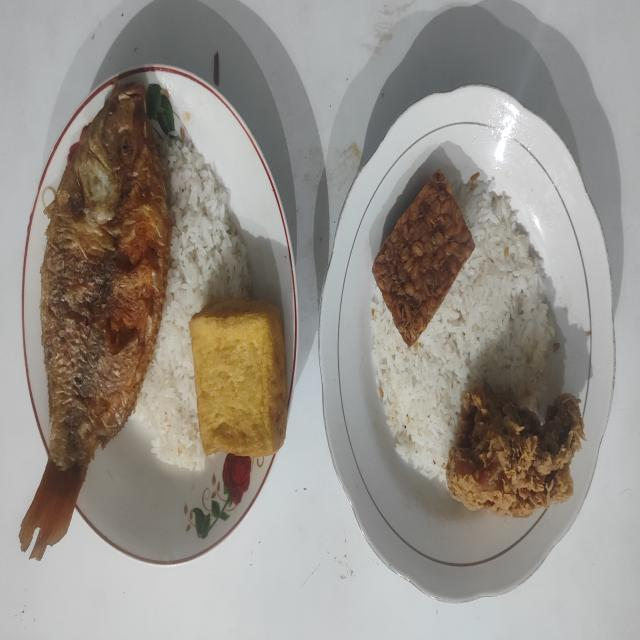ikan_mujair: (20, 83, 172, 559)
nasi_putih: (371, 180, 556, 480), (133, 137, 250, 470)
tahu_goreng: (190, 298, 288, 458)
tempe_goreng: (372, 170, 475, 346)
